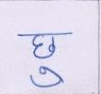u_matra: (29, 67, 64, 89)
